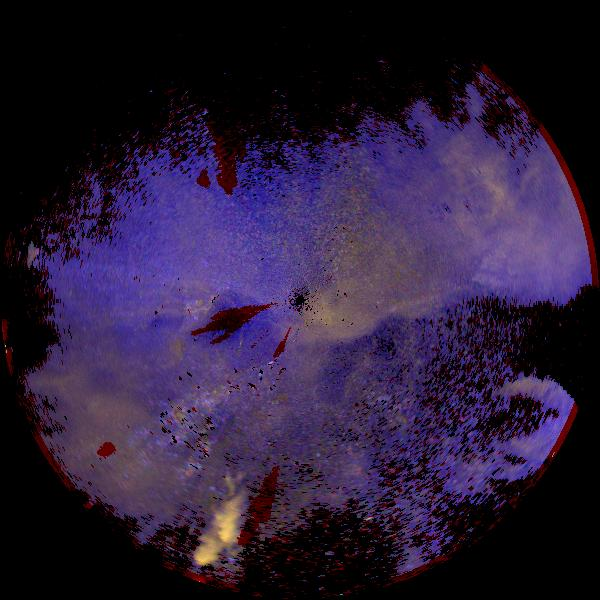roost: (128, 324, 203, 399)
